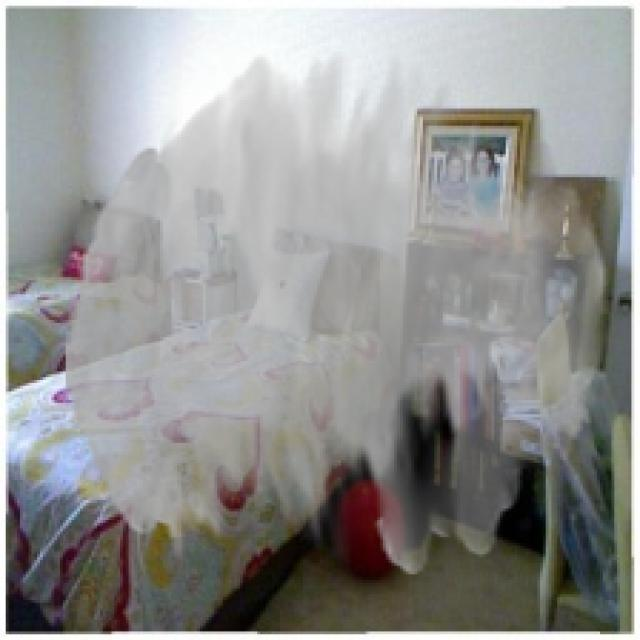smoke: (66, 52, 608, 574)
